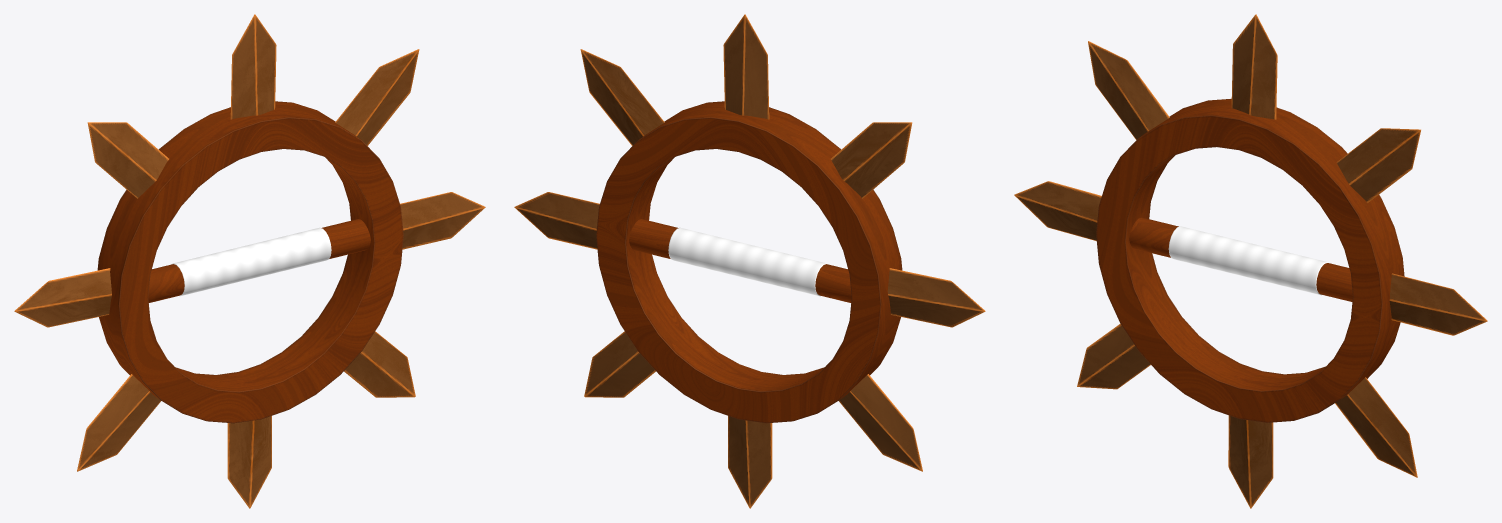
Rendered from Shuriken.fbx.
The picture shows the model from 3 angles, left to right: view 1: azimuth 30°, elevation 25°; view 2: azimuth 150°, elevation 25°; view 3: azimuth 330°, elevation 25°; orthographic projection.
Parts seen in each view (by area): view 1: Frame, Blade, Grip, Handle; view 2: Frame, Blade, Grip, Handle; view 3: Frame, Blade, Grip, Handle.
Part boxes in pixels (x1,y1,x2,y2): Frame: (97, 101, 403, 423); Blade: (14, 14, 485, 508); Grip: (171, 227, 331, 296); Handle: (148, 219, 370, 302); Frame: (596, 101, 902, 423); Blade: (514, 14, 985, 508); Grip: (668, 227, 828, 296); Handle: (629, 219, 851, 302); Frame: (1096, 98, 1404, 422); Blade: (1014, 14, 1487, 508); Grip: (1168, 226, 1329, 295); Handle: (1129, 217, 1352, 301).
Size of the model in its own units: 45 by 45.02 by 3.81.
